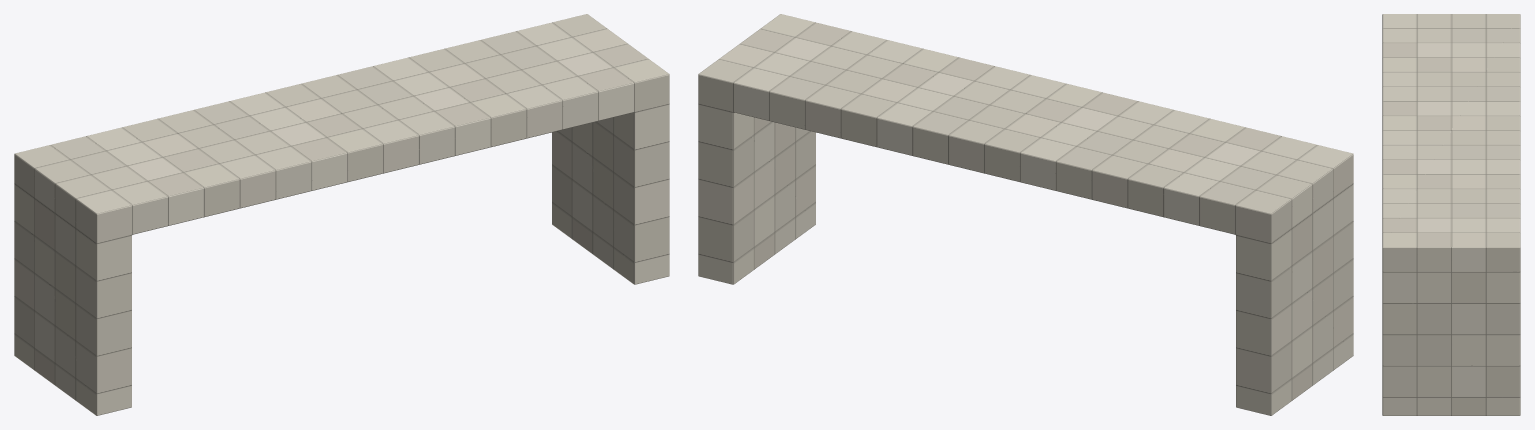
The model's file is MOD_43_Bridge_Short.glb.
3 views of the same model, side by side, from view 1: azimuth 30°, elevation 25°; view 2: azimuth 150°, elevation 25°; view 3: azimuth 270°, elevation 25° (orthographic). The views are drawn at different scales.
Visible parts, largest first — view 1: MOD_43_Bridge_Short_Export; view 2: MOD_43_Bridge_Short_Export; view 3: MOD_43_Bridge_Short_Export.
Part boxes in pixels (left/top/right/bottom): MOD_43_Bridge_Short_Export: left=14, top=14, right=669, bottom=415; MOD_43_Bridge_Short_Export: left=698, top=14, right=1353, bottom=415; MOD_43_Bridge_Short_Export: left=1382, top=14, right=1520, bottom=415.
Bounding box in the file's own units: 4 × 1.35 × 1.
1 material, 1 textured.
